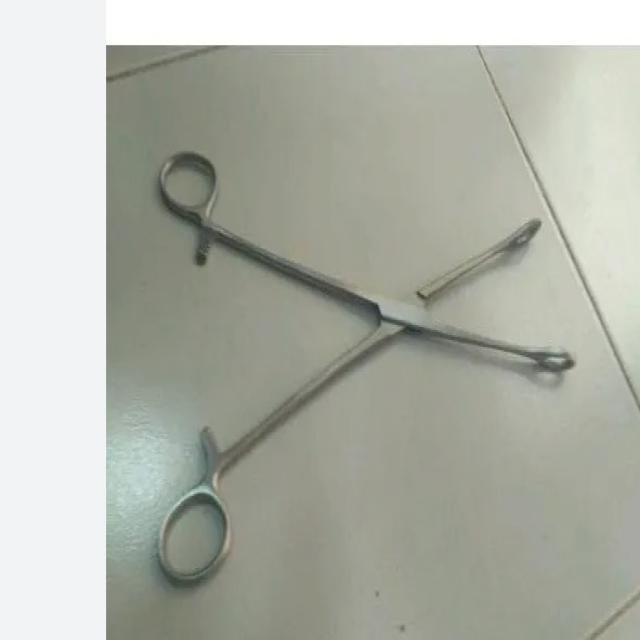Sponge Holding Forceps: (140, 129, 590, 597)
